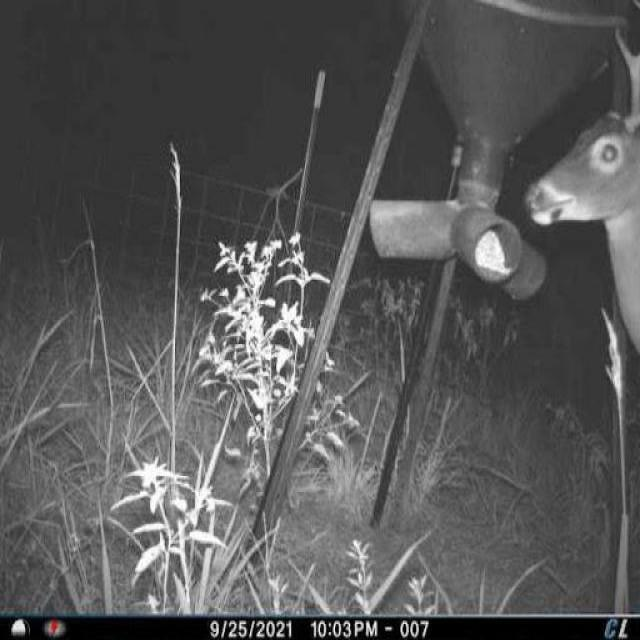deer: (521, 32, 640, 359)
